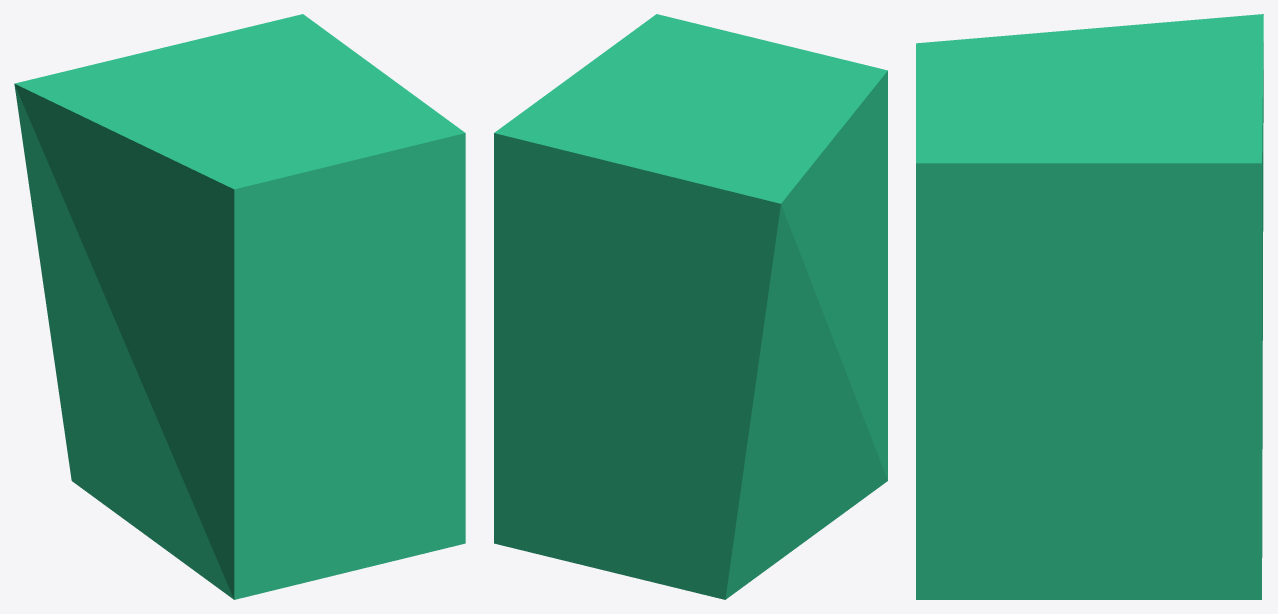
The model's file is simple_example_hole_part_54.obj.
3 views of the same model, side by side, from view 1: azimuth 30°, elevation 25°; view 2: azimuth 150°, elevation 25°; view 3: azimuth 270°, elevation 25° (orthographic). The views are drawn at different scales.
Bounding box in the file's own units: 16.51 × 22.5 × 16.24.
